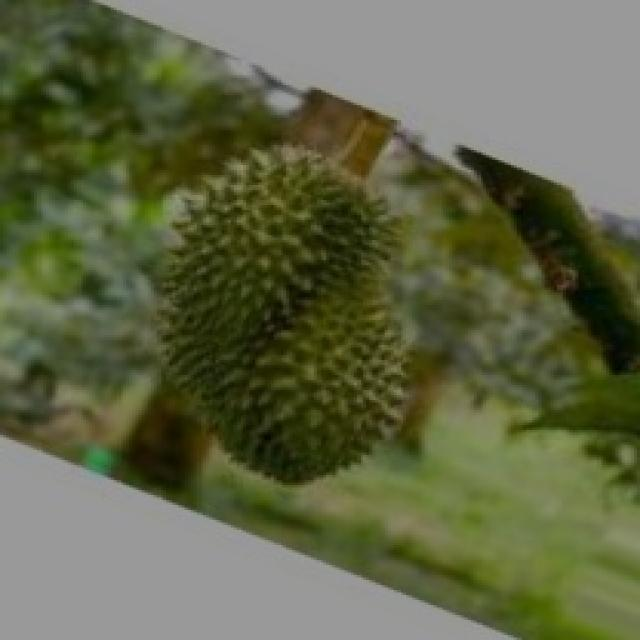fruit: (95, 105, 468, 527)
